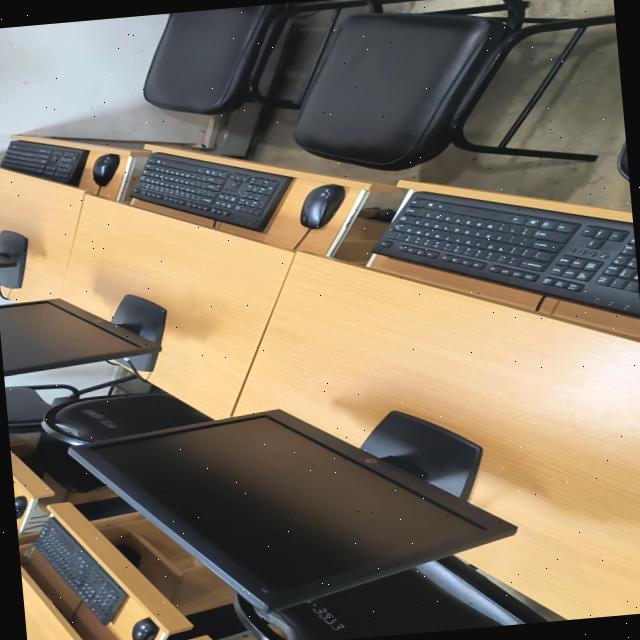Chair: (294, 0, 615, 169), (143, 0, 397, 113), (233, 555, 549, 640), (5, 383, 102, 491), (42, 391, 210, 443)
Keyboard: (372, 189, 640, 314), (130, 151, 291, 230), (35, 515, 126, 623), (0, 139, 88, 185)
Monitor: (68, 408, 515, 608), (0, 294, 165, 374), (0, 229, 27, 287)
Mouse: (300, 183, 344, 228), (92, 153, 119, 185), (132, 616, 158, 640), (14, 495, 26, 517)
